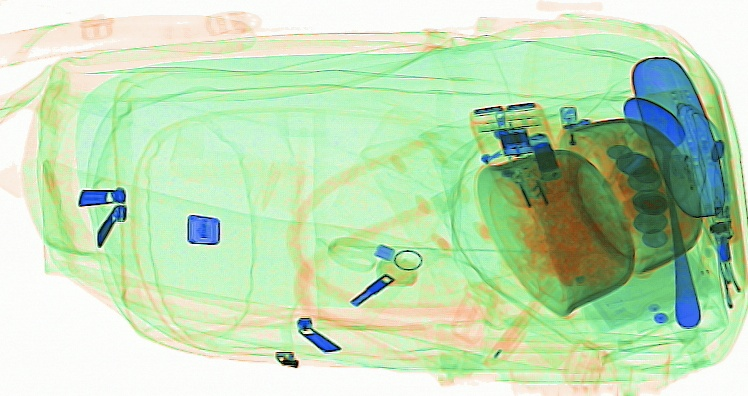lighter: (554, 103, 583, 176)
